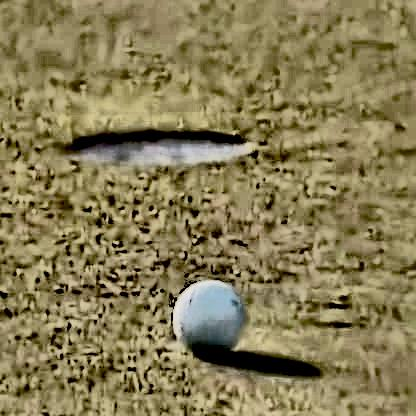golfball: (170, 276, 244, 352)
